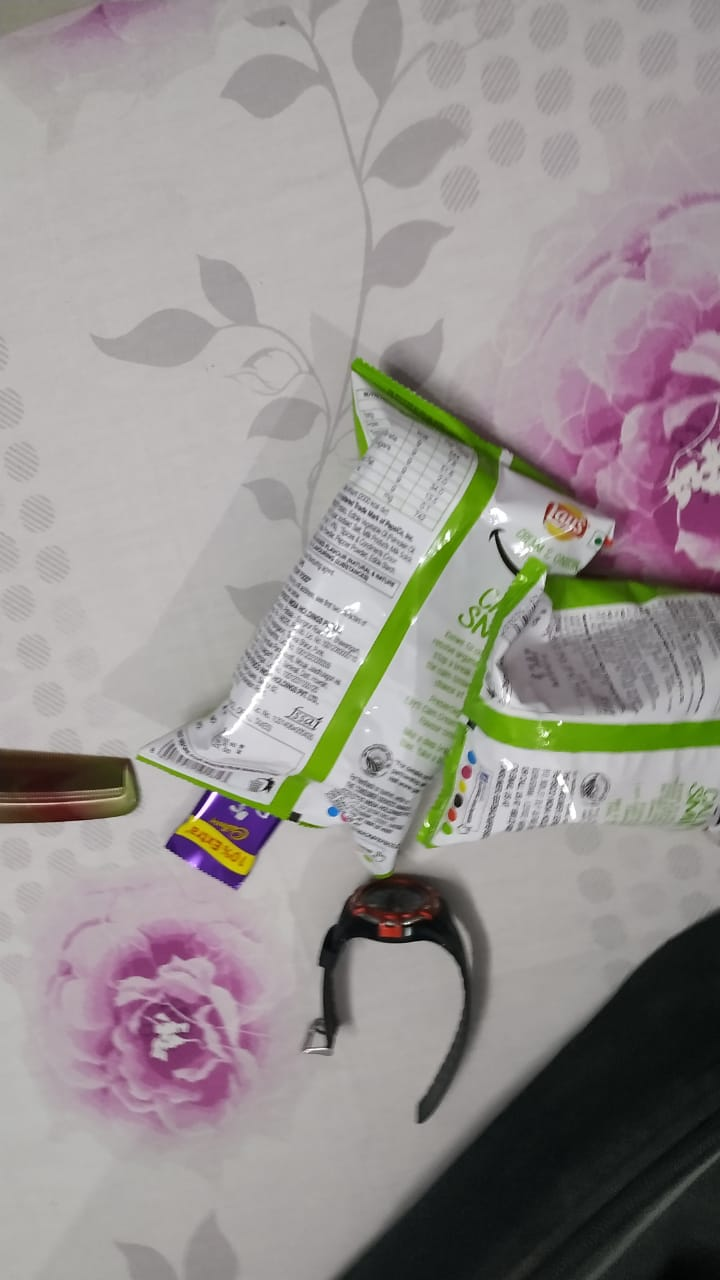lays chips: (135, 343, 588, 841)
